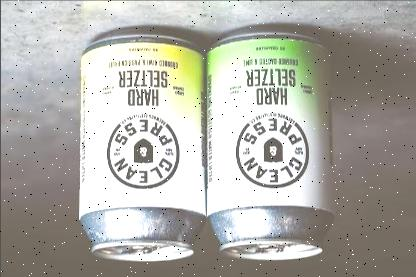Can: (205, 27, 335, 261), (78, 28, 206, 262)
